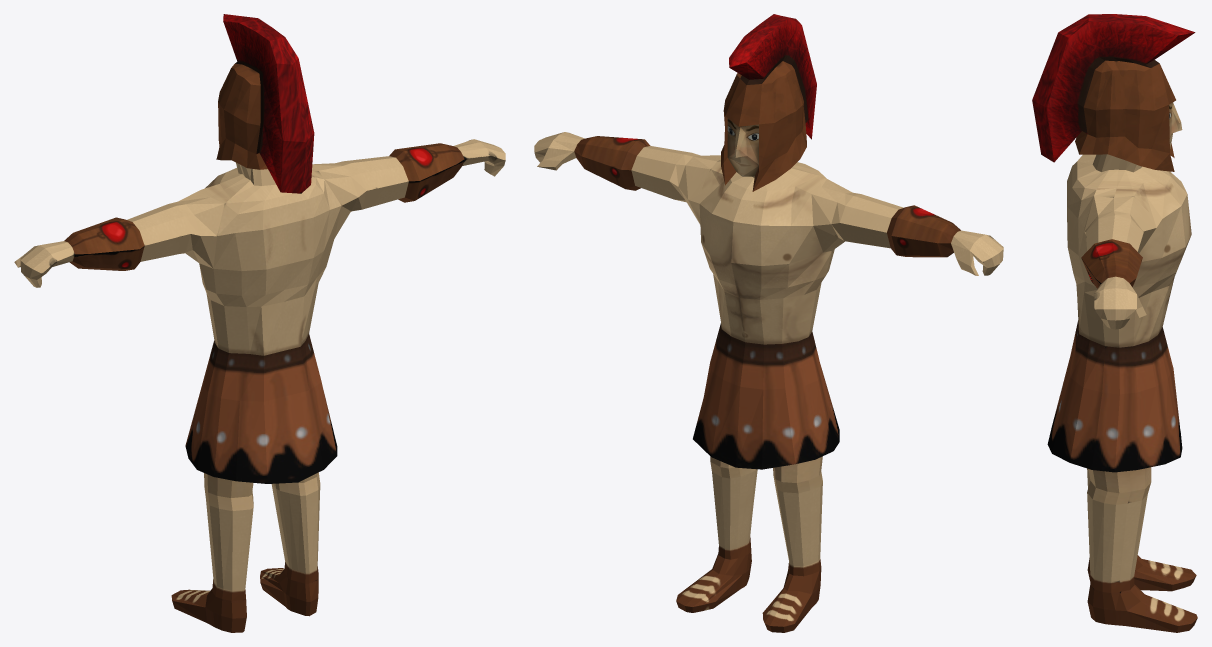
Rendered from Orion_Test2.fbx.
3 renders of one model, left to right at view 1: azimuth 30°, elevation 25°; view 2: azimuth 150°, elevation 25°; view 3: azimuth 270°, elevation 25°, orthographic. The views are drawn at different scales.
Parts seen in each view (by area): view 1: Box001; view 2: Box001; view 3: Box001.
Part boxes in pixels (<box>): Box001: <box>14,14,505,632</box>; Box001: <box>534,14,1003,632</box>; Box001: <box>1032,14,1197,632</box>.
Size of the model in its own units: 91.06 by 107 by 27.48.
1 material, 1 textured.
